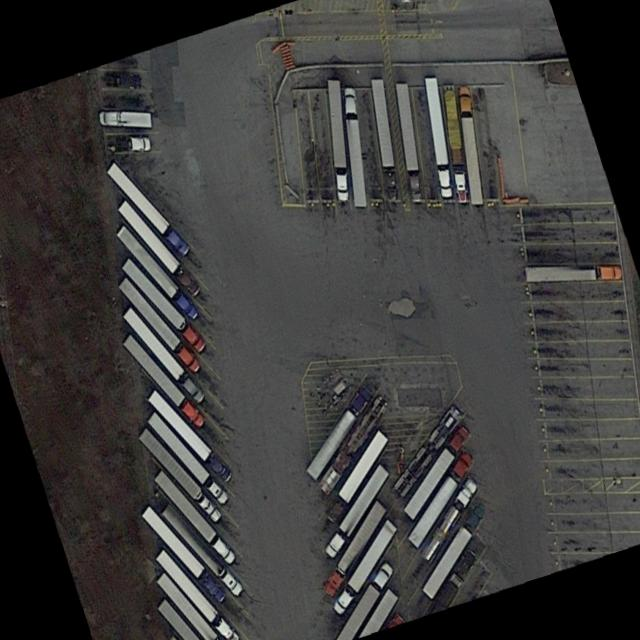large-vehicle: (140, 505, 225, 603), (120, 257, 205, 353), (137, 427, 221, 524), (116, 200, 199, 298), (105, 160, 189, 256), (152, 469, 235, 565), (121, 306, 203, 403), (146, 390, 231, 483), (114, 225, 197, 320), (117, 277, 199, 373), (159, 503, 242, 597), (121, 334, 203, 427), (146, 411, 227, 505), (154, 550, 237, 640), (303, 383, 370, 481), (406, 449, 472, 548), (322, 462, 389, 558), (420, 501, 485, 599), (402, 424, 468, 519), (331, 520, 396, 615), (417, 469, 479, 568), (322, 499, 384, 597), (326, 429, 387, 521), (154, 571, 220, 640), (369, 79, 397, 199), (423, 76, 450, 198), (394, 82, 420, 203), (457, 86, 482, 206), (342, 88, 366, 207), (441, 85, 466, 199), (326, 79, 347, 201), (522, 265, 620, 281), (96, 107, 151, 128)
